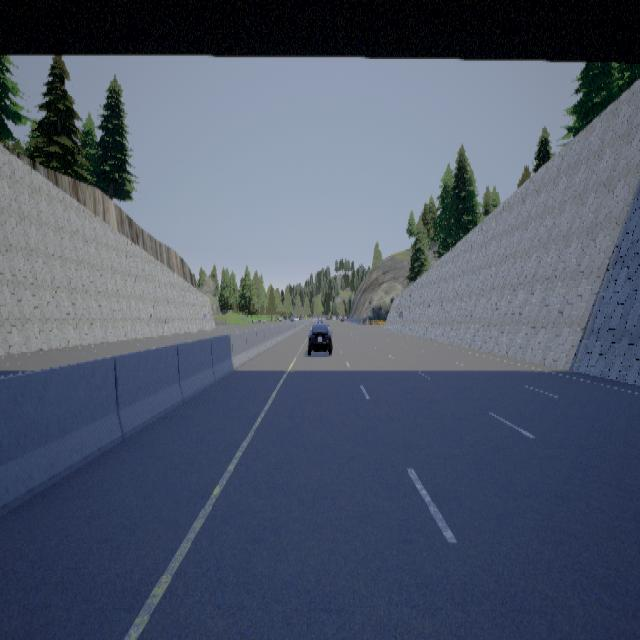vehicle: (306, 316, 332, 354)
